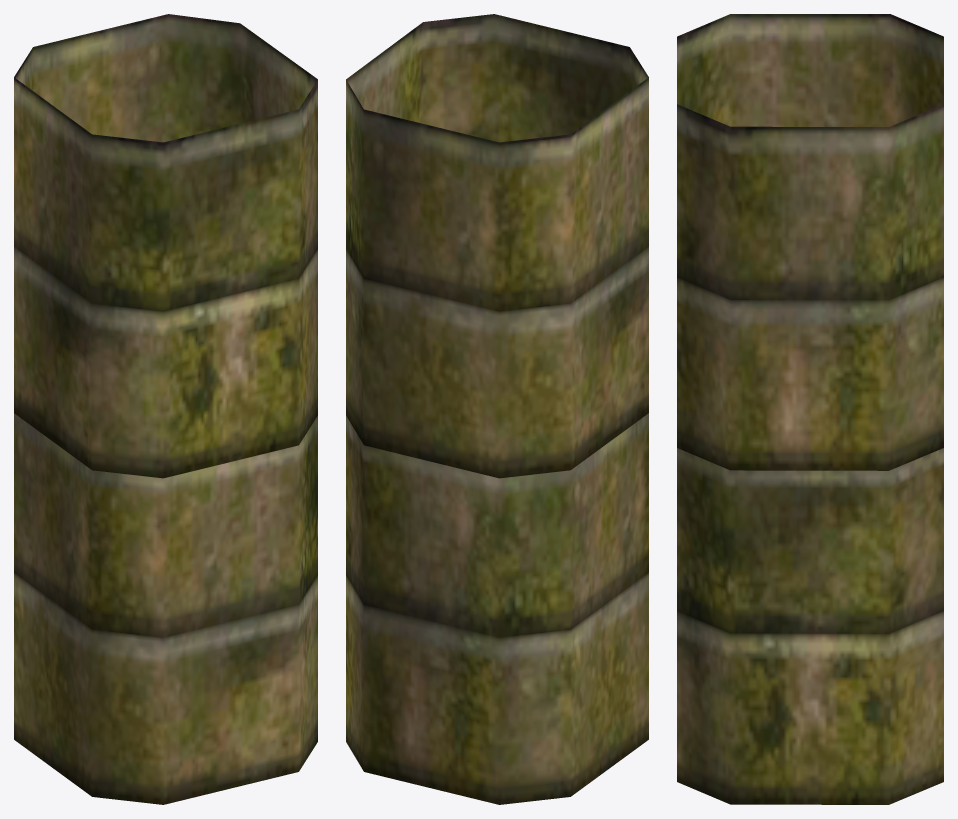
Rendered from OVERHILL_A_01_LINE460.fbx.
The picture shows the model from 3 angles, left to right: view 1: azimuth 30°, elevation 25°; view 2: azimuth 150°, elevation 25°; view 3: azimuth 270°, elevation 25°; orthographic projection. The views are drawn at different scales.
Visible parts, largest first — view 1: OVERHILL_A_01_LINE460; view 2: OVERHILL_A_01_LINE460; view 3: OVERHILL_A_01_LINE460.
Boxes of the visible parts, <box> form: OVERHILL_A_01_LINE460: <box>14,14,317,804</box>; OVERHILL_A_01_LINE460: <box>346,14,648,804</box>; OVERHILL_A_01_LINE460: <box>677,14,943,804</box>.
Size of the model in its own units: 9604 by 26954 by 9604.
Materials: 1 (1 with a texture image).
